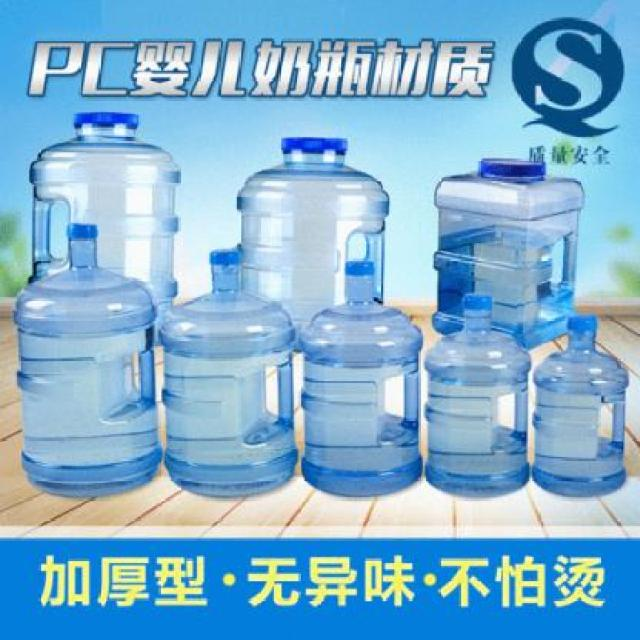coolerbottle: (9, 220, 163, 503), (157, 242, 301, 498), (298, 254, 430, 500), (424, 288, 538, 503), (529, 311, 634, 500)
